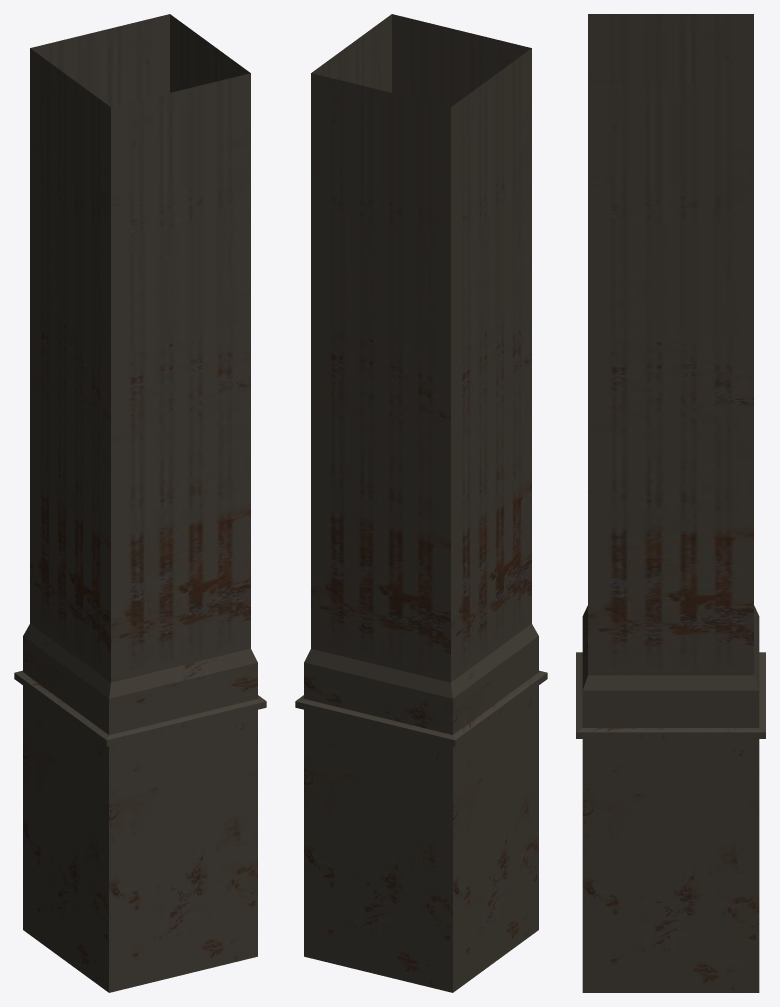
Rendered from Metal_Column_Bottom.glb.
3 views of the same model, side by side, from view 1: azimuth 30°, elevation 25°; view 2: azimuth 150°, elevation 25°; view 3: azimuth 270°, elevation 25° (orthographic). The views are drawn at different scales.
Parts seen in each view (by area): view 1: Metal_Column_Bottom; view 2: Metal_Column_Bottom; view 3: Metal_Column_Bottom.
Boxes of the visible parts, box(x1,y1,x2,y2) form: Metal_Column_Bottom: box(14, 14, 266, 992); Metal_Column_Bottom: box(295, 14, 547, 992); Metal_Column_Bottom: box(576, 14, 765, 992).
Bounding box in the file's own units: 0.5689 × 3 × 0.5695.
Materials: 1 (1 with a texture image).
